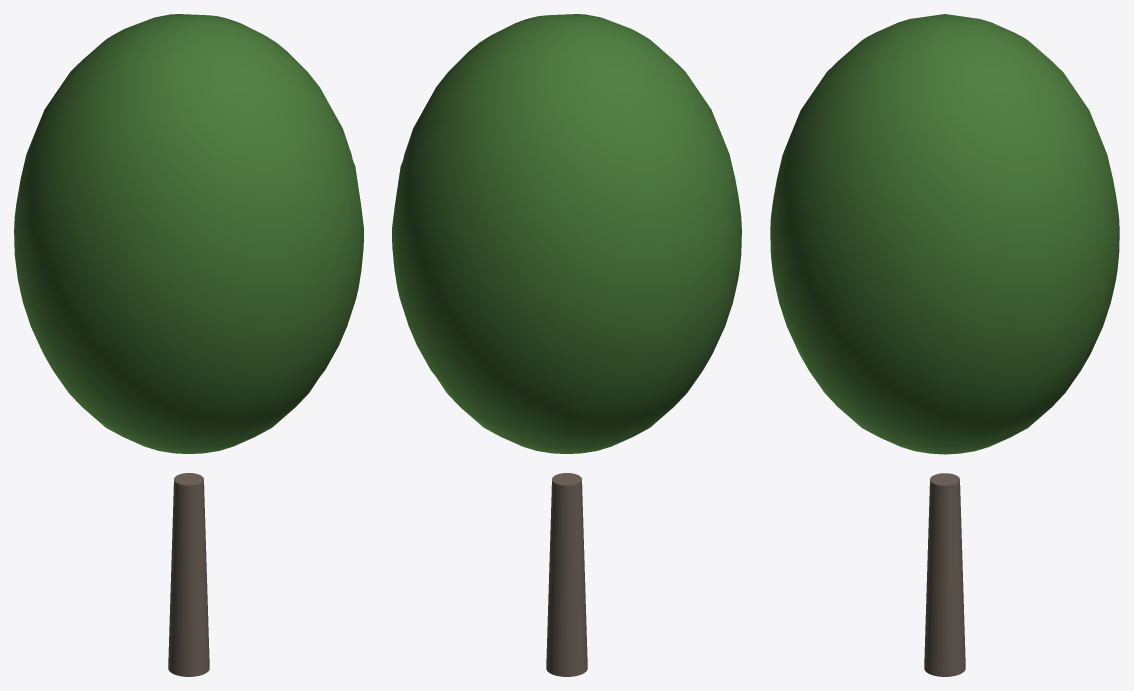
The model's file is e05-red-maple.glb.
The picture shows the model from 3 angles, left to right: view 1: azimuth 30°, elevation 25°; view 2: azimuth 150°, elevation 25°; view 3: azimuth 270°, elevation 25°; orthographic projection.
Visible parts, largest first — view 1: part1, part0; view 2: part1, part0; view 3: part1, part0.
Part boxes in pixels (x1=…): part1: x1=14, y1=14, x2=363, y2=453; part0: x1=168, y1=473, x2=209, y2=676; part1: x1=392, y1=14, x2=741, y2=453; part0: x1=546, y1=473, x2=587, y2=676; part1: x1=770, y1=14, x2=1119, y2=454; part0: x1=924, y1=473, x2=965, y2=676.
Bounding box in the file's own units: 8399 × 17000 × 8394.
